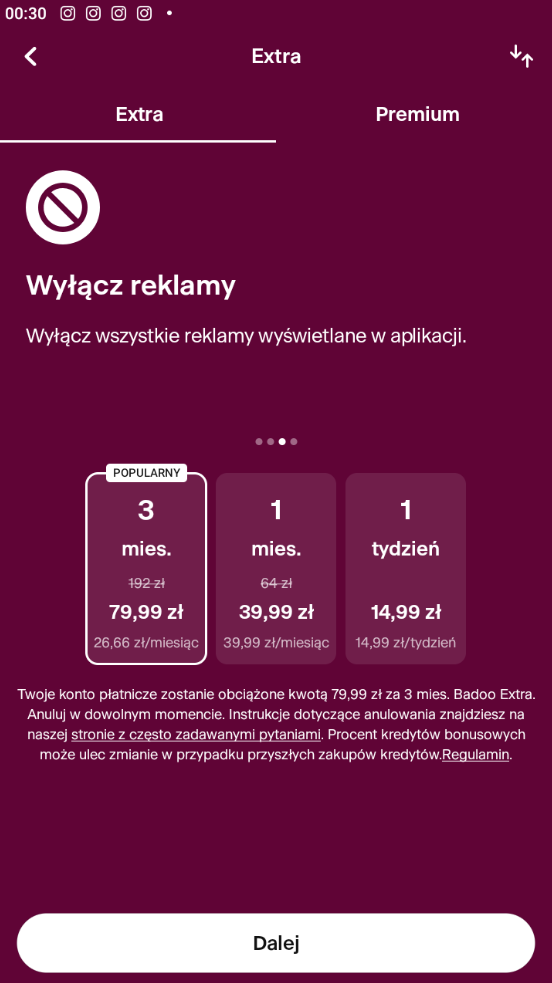kupno_button: (21, 911, 533, 977)
